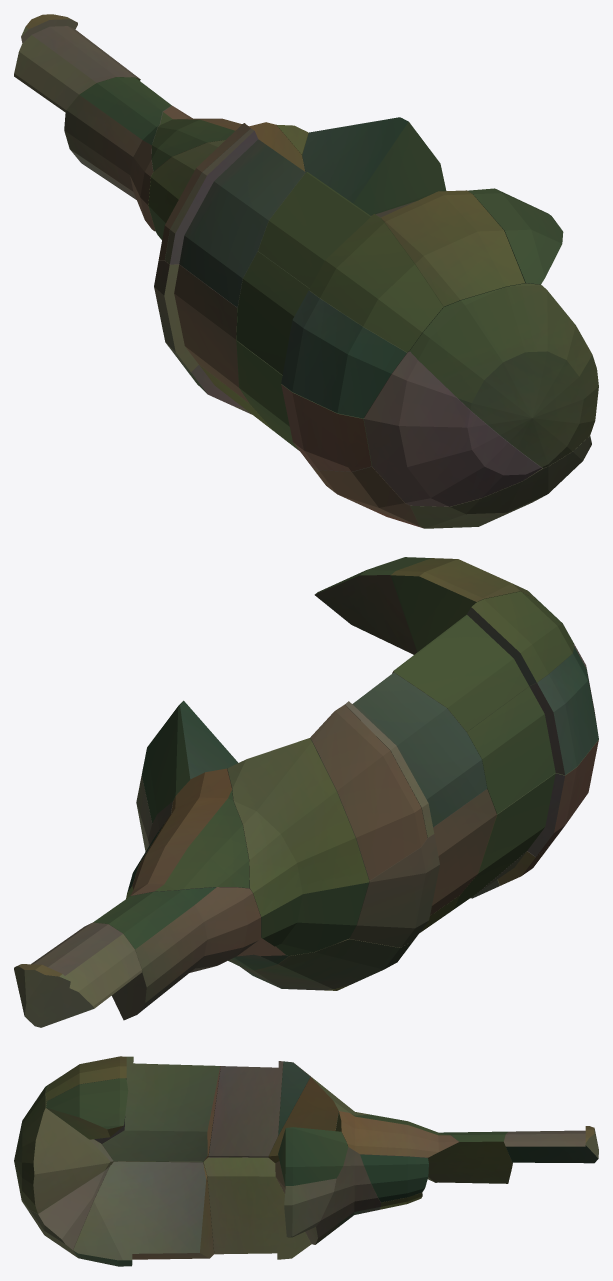
Rendered from pipe.fbx.
3 renders of one model, top to bottom at view 1: azimuth 30°, elevation 25°; view 2: azimuth 150°, elevation 25°; view 3: azimuth 270°, elevation 25°, orthographic. The views are drawn at different scales.
Visible parts, largest first — view 1: Sphere.002_cell.037, Sphere.002_cell.033, Sphere.002_cell.031, Sphere.002_cell.013, Sphere.002_cell.039, Sphere.002_cell.028, Sphere.002_cell.009, Sphere.002_cell.038, Sphere.002_cell.040, Sphere.002_cell.022, Sphere.002_cell.001, Sphere.002_cell.024 (+6 smaller); view 2: Sphere.002_cell.026, Sphere.002_cell.033, Sphere.002_cell.038, Sphere.002_cell.013, Sphere.002_cell.039, Sphere.002_cell.022, Sphere.002_cell.046, Sphere.002_cell.025, Sphere.002_cell.001, Sphere.002_cell.040, Sphere.002_cell.028, Sphere.002_cell.009 (+5 smaller); view 3: Sphere.002_cell.014, Sphere.002_cell.033, Sphere.002_cell.034, Sphere.002_cell.037, Sphere.002_cell.039, Sphere.002_cell.025, Sphere.002_cell.038, Sphere.002_cell.007, Sphere.002_cell.009, Sphere.002_cell.011, Sphere.002_cell.001, Sphere.002_cell.024 (+6 smaller).
Part boxes in pixels (box(x1,y1,x2,y2)): Sphere.002_cell.037: box(410, 283, 598, 468); Sphere.002_cell.033: box(258, 172, 443, 352); Sphere.002_cell.031: box(364, 351, 542, 506); Sphere.002_cell.013: box(236, 251, 407, 418); Sphere.002_cell.039: box(165, 128, 305, 307); Sphere.002_cell.028: box(381, 190, 524, 306); Sphere.002_cell.009: box(302, 117, 446, 215); Sphere.002_cell.038: box(64, 77, 171, 231); Sphere.002_cell.040: box(236, 341, 371, 471); Sphere.002_cell.022: box(154, 260, 249, 403); Sphere.002_cell.001: box(14, 14, 140, 112); Sphere.002_cell.024: box(410, 436, 591, 528); Sphere.002_cell.026: box(227, 738, 369, 955); Sphere.002_cell.033: box(392, 591, 573, 731); Sphere.002_cell.038: box(93, 887, 260, 1020); Sphere.002_cell.013: box(467, 646, 598, 814); Sphere.002_cell.039: box(345, 672, 487, 837); Sphere.002_cell.022: box(349, 789, 496, 947); Sphere.002_cell.046: box(310, 704, 427, 880); Sphere.002_cell.025: box(130, 768, 249, 895); Sphere.002_cell.001: box(14, 922, 141, 1027); Sphere.002_cell.040: box(453, 739, 598, 909); Sphere.002_cell.028: box(390, 558, 536, 651); Sphere.002_cell.009: box(141, 700, 238, 822); Sphere.002_cell.014: box(73, 1161, 214, 1266); Sphere.002_cell.033: box(102, 1056, 220, 1161); Sphere.002_cell.034: box(203, 1157, 311, 1259); Sphere.002_cell.037: box(14, 1084, 113, 1213); Sphere.002_cell.039: box(208, 1061, 283, 1157); Sphere.002_cell.025: box(335, 1111, 458, 1157); Sphere.002_cell.038: box(428, 1131, 512, 1183); Sphere.002_cell.007: box(46, 1078, 128, 1139); Sphere.002_cell.009: box(278, 1127, 347, 1185); Sphere.002_cell.011: box(275, 1147, 380, 1244); Sphere.002_cell.001: box(504, 1126, 598, 1163); Sphere.002_cell.024: box(24, 1165, 110, 1258).
Bounding box in the file's own units: 196 × 200 × 556.
1 material, 1 textured.
